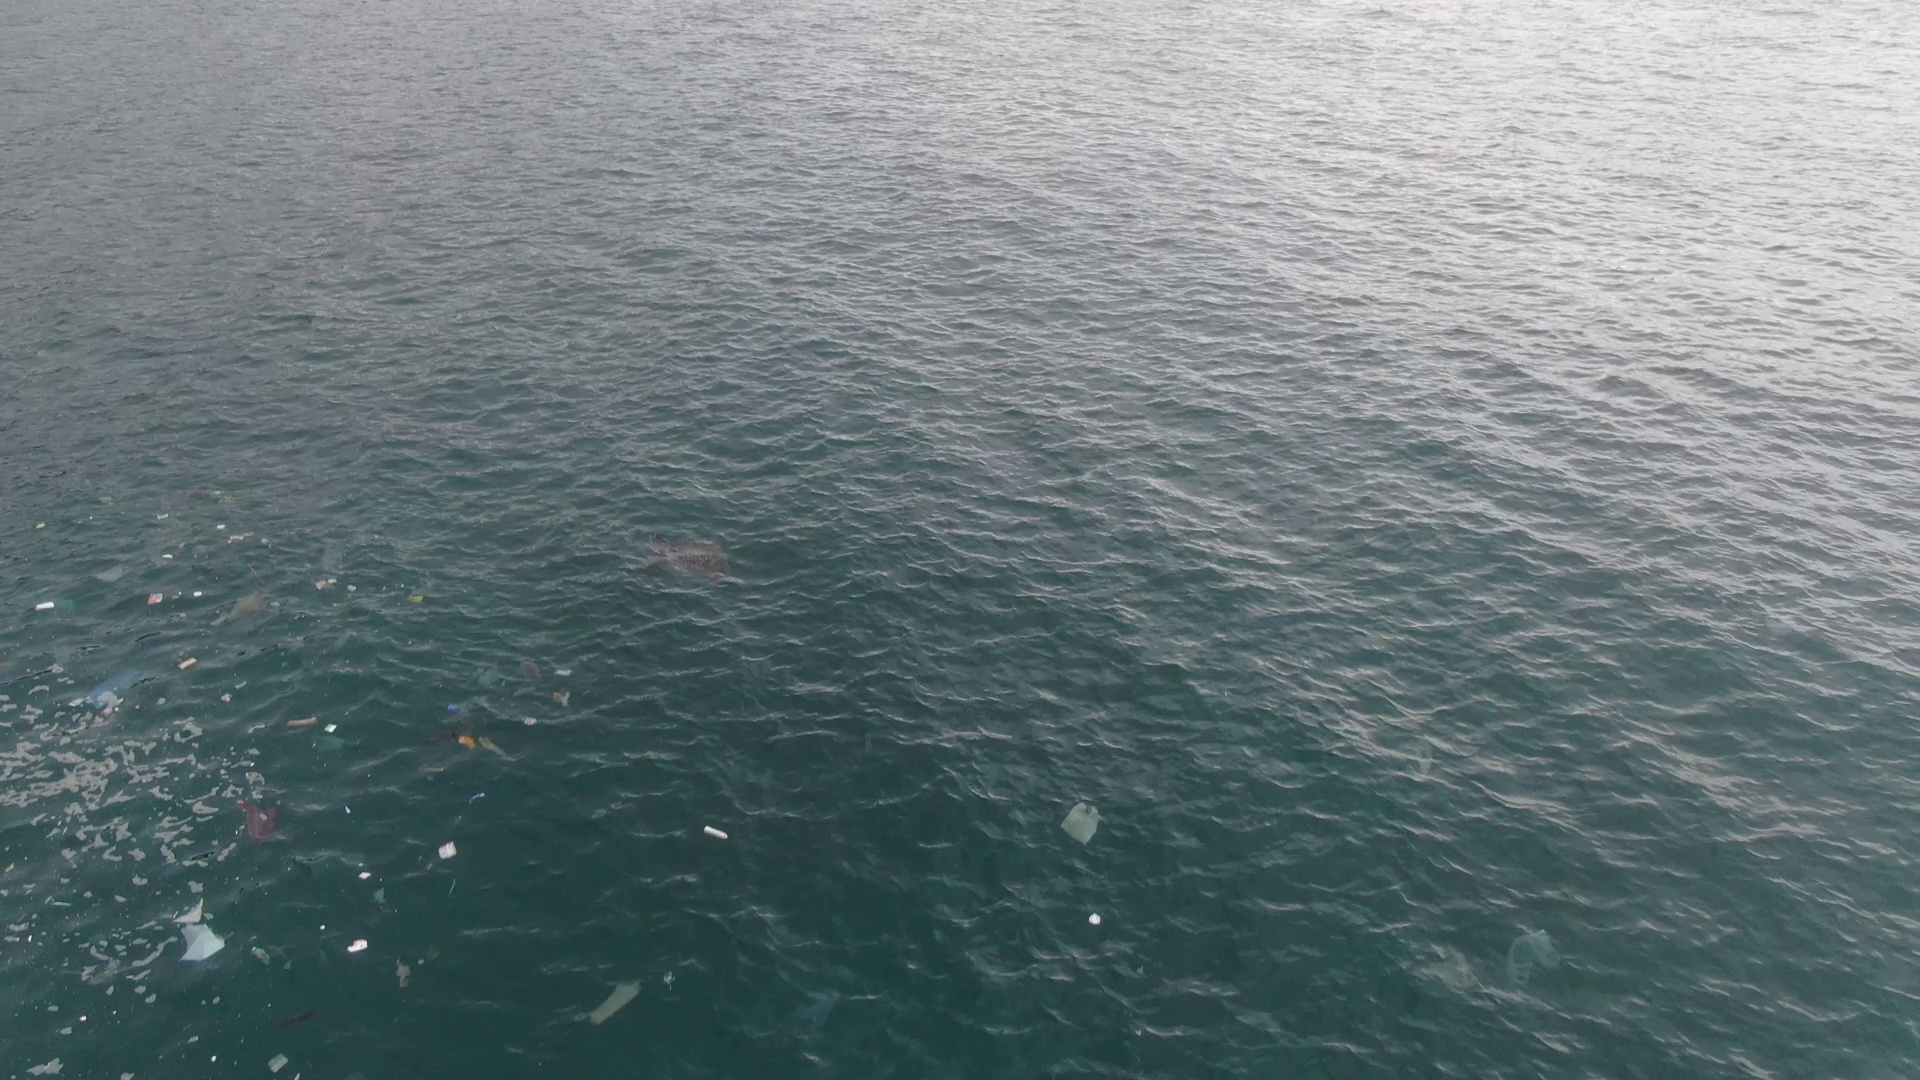bottle: (252, 945, 285, 971)
garbage: (644, 535, 731, 585), (1507, 930, 1559, 988), (162, 487, 236, 516), (1059, 802, 1104, 847), (595, 982, 640, 1025), (179, 924, 225, 963), (239, 800, 280, 843), (94, 669, 140, 704), (458, 732, 513, 760), (276, 1011, 314, 1030), (231, 597, 262, 618), (520, 659, 543, 686), (94, 564, 125, 582), (703, 824, 729, 840), (439, 841, 456, 862), (272, 1051, 289, 1071), (554, 690, 571, 709), (349, 938, 369, 953), (287, 717, 316, 727), (316, 578, 336, 591), (406, 593, 425, 605), (146, 592, 162, 605), (36, 601, 55, 611), (178, 659, 199, 667), (524, 716, 539, 727), (448, 702, 462, 713), (324, 723, 338, 733)
